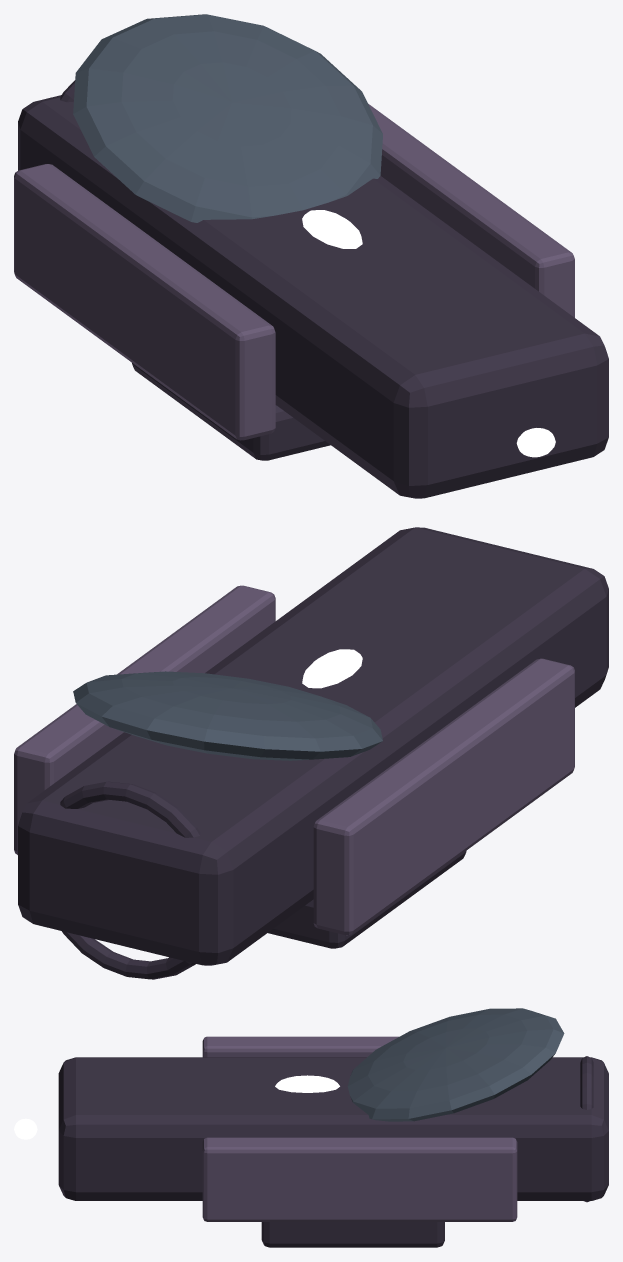
The picture shows the model from 3 angles, top to bottom: view 1: azimuth 30°, elevation 25°; view 2: azimuth 150°, elevation 25°; view 3: azimuth 270°, elevation 25°; orthographic projection. The views are drawn at different scales.
Visible parts, largest first — view 1: RIMWARD_HULL, RIMWARD_EMISSIVE, RIMWARD_ENGINE_GLOW; view 2: RIMWARD_HULL, RIMWARD_EMISSIVE; view 3: RIMWARD_HULL, RIMWARD_EMISSIVE, RIMWARD_ENGINE_GLOW.
Boxes of the visible parts, bbox=[...] form: RIMWARD_HULL: bbox=[14, 14, 608, 498]; RIMWARD_EMISSIVE: bbox=[302, 210, 362, 248]; RIMWARD_ENGINE_GLOW: bbox=[516, 428, 555, 457]; RIMWARD_HULL: bbox=[14, 527, 608, 979]; RIMWARD_EMISSIVE: bbox=[302, 649, 362, 688]; RIMWARD_HULL: bbox=[58, 1008, 608, 1247]; RIMWARD_EMISSIVE: bbox=[275, 1075, 339, 1092]; RIMWARD_ENGINE_GLOW: bbox=[14, 1118, 37, 1139].
Bounding box in the file's own units: 4.54 × 3.43 × 9.99.
